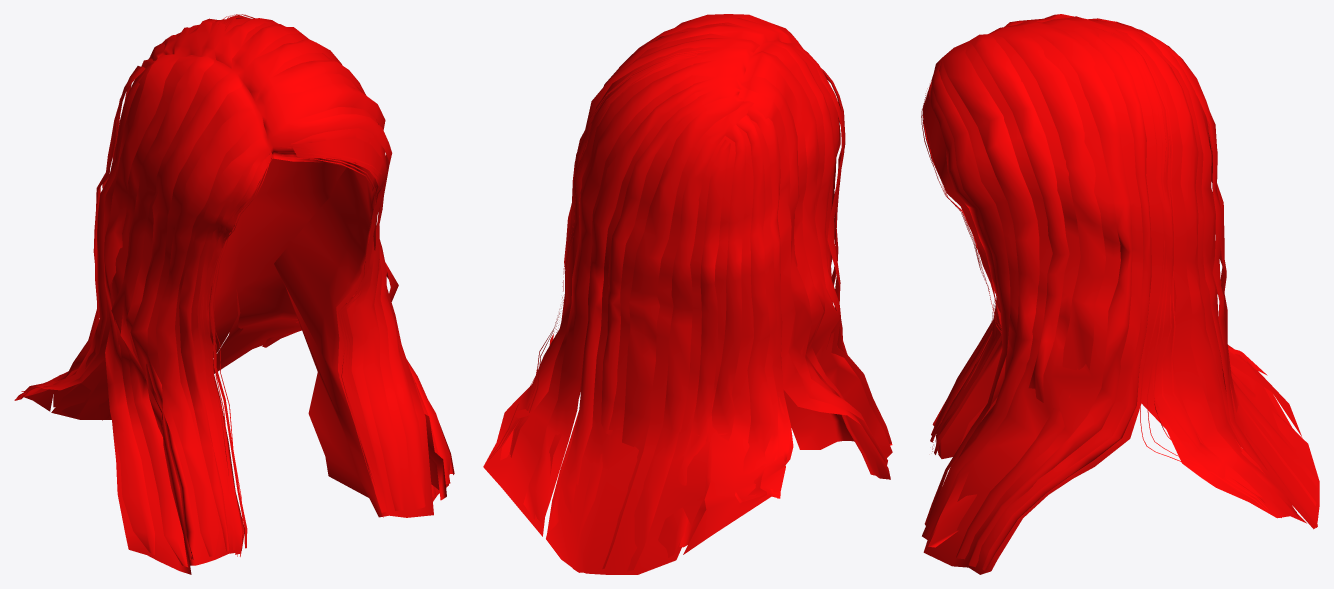
The model's file is culturalibre_hair_01_M.glb.
3 views of the same model, side by side, from view 1: azimuth 30°, elevation 25°; view 2: azimuth 150°, elevation 25°; view 3: azimuth 270°, elevation 25° (orthographic). The views are drawn at different scales.
Size of the model in its own units: 0.2892 by 0.415 by 0.3057.
Materials: 1 (1 with a texture image).
